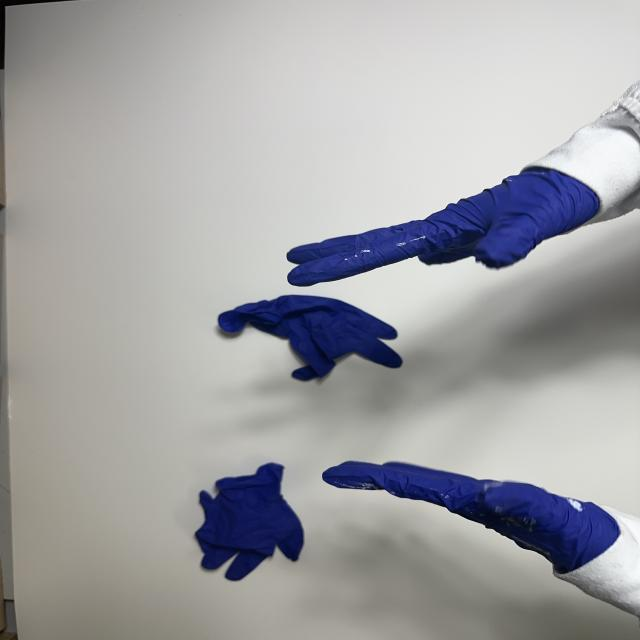gloves_contaminated: (288, 168, 600, 286), (323, 462, 621, 574)
